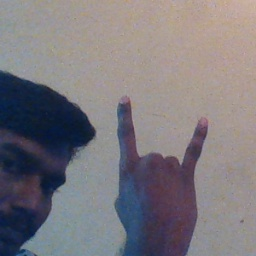V: (107, 91, 210, 247)
